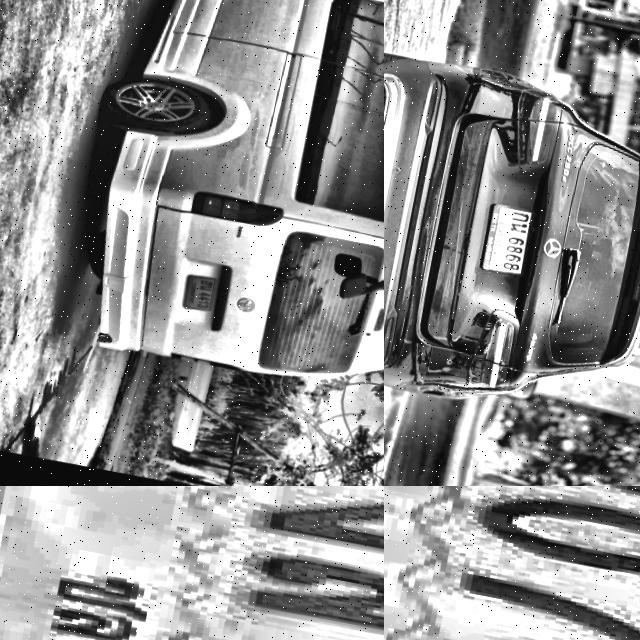license-plate: (0, 486, 384, 640), (384, 486, 640, 640), (480, 202, 538, 279), (184, 272, 222, 316)
